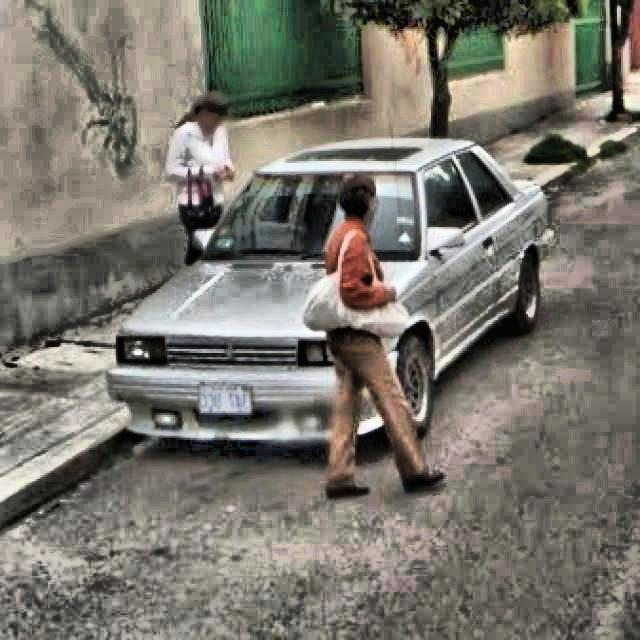carro: (104, 132, 566, 480)
